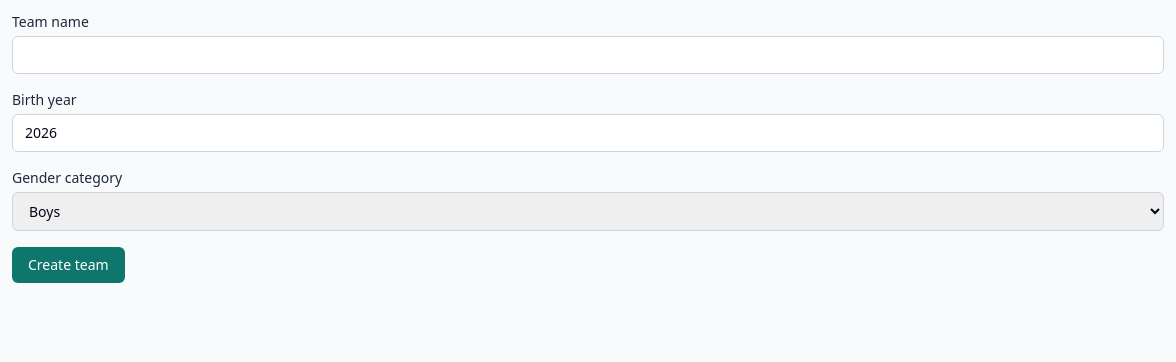
it: TeamForm › shows an error message when submission fails
The image size is (1176, 362).
What coordinates should you click on to do the following:
click the button "Create team"
I would click on:
 (68, 265)
Its box is left=12, top=247, right=125, bottom=283.
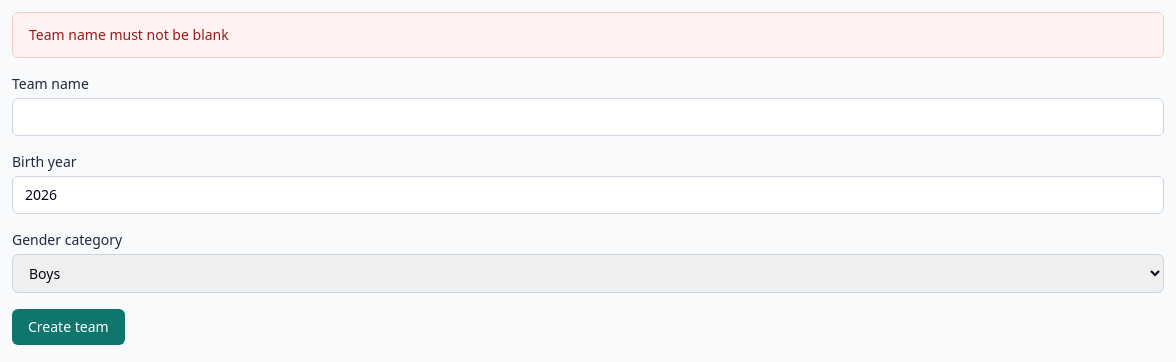
expect the message reads "Team name must not be blank": met, box left=29, top=25, right=229, bottom=44
